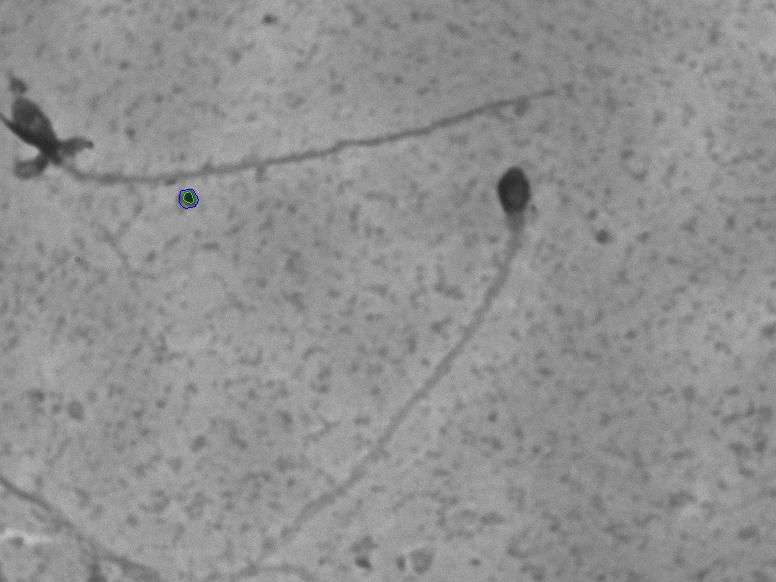Abnormal: (386, 135, 580, 484), (8, 69, 592, 184)
